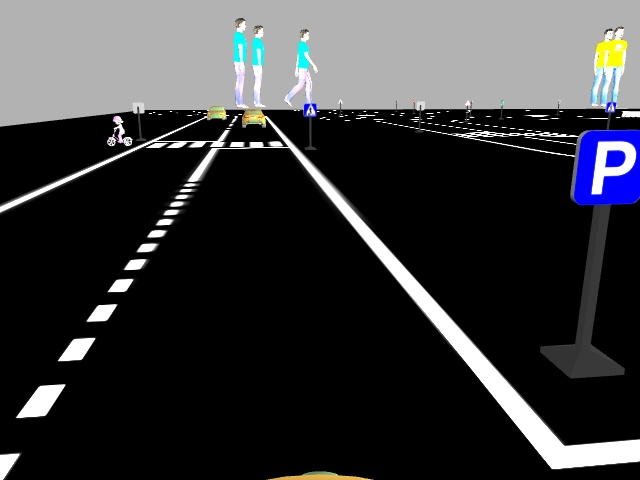Parking: (571, 127, 639, 201)
